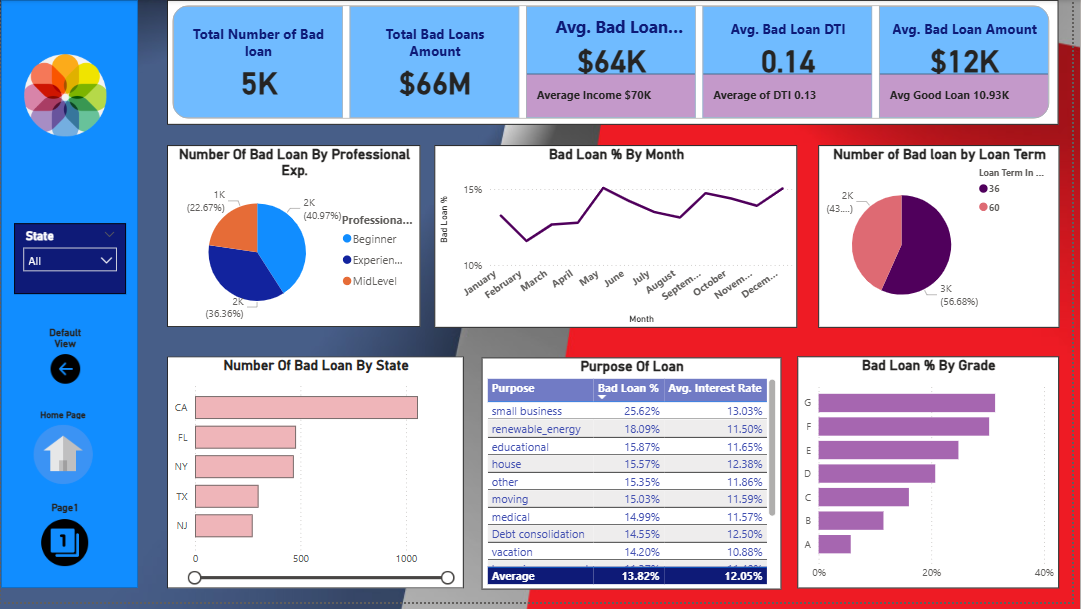

The page's visual inventory and layout, read from the dashboard file:
{"tool":"powerbi","page":{"name":"Bad Loan Summary","canvas":[1280,720],"ordinal":1},"visuals":[{"type":"pieChart","title":"Number Of Bad Loan By Professional Exp.","fields":{"Category":["financial_loan.Employee_Length"],"Y":["Measures_ Table.Total Bad loan"]},"box":[199.2,173.3,302.8,217],"z":0},{"type":"clusteredBarChart","title":"Bad Loan % By Grade","fields":{"Category":["financial_loan.grade"],"Y":["Measures_ Table.Bad Loan %"]},"box":[952.1,425.9,312.5,276.9],"z":1000},{"type":"clusteredBarChart","title":"Number Of Bad Loan By State","fields":{"Category":["financial_loan.address_state"],"Y":["Measures_ Table.Total Bad loan"]},"box":[199.2,425.9,354.6,276.9],"z":2000},{"type":"tableEx","title":"Purpose Of Loan","fields":{"Values":["financial_loan.purpose","Measures_ Table.Bad Loan %","Measures_ Table.Avg Interest Rate"]},"box":[574.8,427.5,357.8,276.9],"z":3000},{"type":"cardVisual","fields":{"Data":["Measures_ Table.Total Number of Bad loan","Measures_ Table.Total Bad Loans Amount","Measures_ Table.Average income of bad loan customers","Measures_ Table.Avg DTI For bad loans","Measures_ Table.Avg Bad Loan Amount"]},"box":[199.2,0,1065.5,149],"z":4000},{"type":"pieChart","title":"Number of Bad loan by Loan Term","fields":{"Category":["financial_loan.Loan Term"],"Y":["Measures_ Table.Total Number of Bad loan"]},"box":[976.4,173.3,288.2,218.6],"z":5000},{"type":"lineChart","title":"Bad Loan % By Month","fields":{"Category":["financial_loan.issue_date.Variation.Date Hierarchy.Month"],"Y":["Measures_ Table.Bad Loan %"]},"box":[518.2,173.3,434,218.6],"z":6000},{"type":"group","id":"g1","title":"Group 1","box":[0,0,163.5,702.7],"z":7000},{"type":"shape","box":[0,0,163.5,702.7],"z":8000,"group":"g1"},{"type":"image","title":"Page1","box":[40.9,599.1,71.5,84.2],"z":8375,"group":"g1"},{"type":"image","title":"Default View","box":[45.3,390.2,64.2,72.9],"z":8562,"group":"g1"},{"type":"slicer","fields":{"Values":["financial_loan.address_state"]},"box":[15.5,267.2,133.9,84.2],"z":8656,"group":"g1"},{"type":"image","title":"Home Page","box":[30.7,489,87.6,97.2],"z":8750,"group":"g1"},{"type":"image","box":[22.7,30.8,108.5,166.8],"z":9250,"group":"g1"}]}

Visuals, with their boxes in screenshot pixels (x1, y1, x2, y2):
"Number Of Bad Loan By Professional Exp." pieChart: <bbox>166, 142, 418, 322</bbox>
"Bad Loan % By Grade" clusteredBarChart: <bbox>793, 352, 1053, 582</bbox>
"Number Of Bad Loan By State" clusteredBarChart: <bbox>166, 352, 461, 582</bbox>
"Purpose Of Loan" tableEx: <bbox>479, 353, 777, 584</bbox>
cardVisual - Measures_ Table.Total Number of Bad loan x Measures_ Table.Total Bad Loans Amount: <bbox>166, 0, 1053, 122</bbox>
"Number of Bad loan by Loan Term" pieChart: <bbox>813, 142, 1053, 324</bbox>
"Bad Loan % By Month" lineChart: <bbox>432, 142, 793, 324</bbox>
"Group 1" group: <bbox>0, 0, 136, 582</bbox>
shape: <bbox>0, 0, 136, 582</bbox>
"Page1" image: <bbox>34, 496, 94, 566</bbox>
"Default View" image: <bbox>38, 322, 91, 383</bbox>
slicer - financial_loan.address_state: <bbox>13, 220, 124, 290</bbox>
"Home Page" image: <bbox>26, 404, 99, 485</bbox>
image: <bbox>19, 23, 109, 162</bbox>
